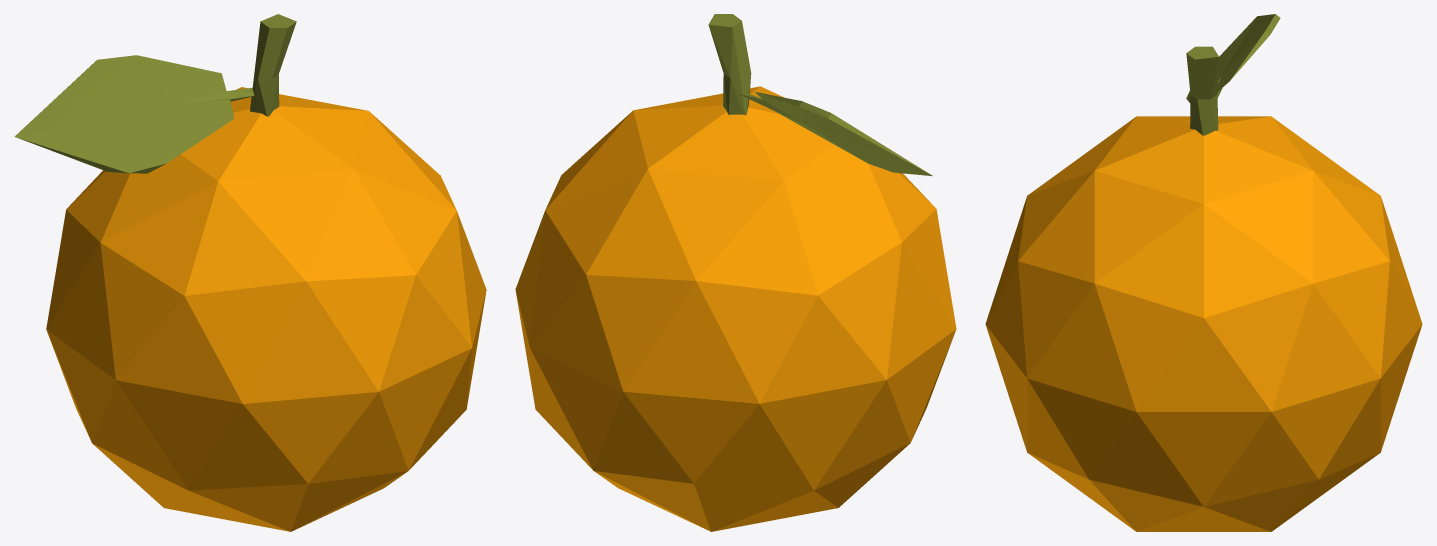
Rendered from Orange.fbx.
3 renders of one model, left to right at view 1: azimuth 30°, elevation 25°; view 2: azimuth 150°, elevation 25°; view 3: azimuth 270°, elevation 25°, orthographic. The views are drawn at different scales.
Visible parts, largest first — view 1: Orange; view 2: Orange; view 3: Orange.
Part boxes in pixels (bbox=[...]): Orange: bbox=[14, 14, 486, 531]; Orange: bbox=[515, 14, 956, 531]; Orange: bbox=[985, 14, 1422, 531].
Size of the model in its own units: 0.1916 by 0.2132 by 0.1822.
